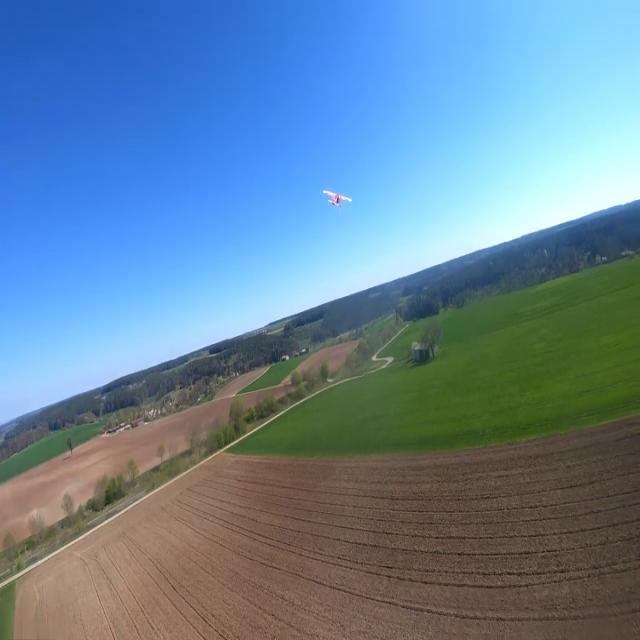iha: (324, 183, 352, 204)
